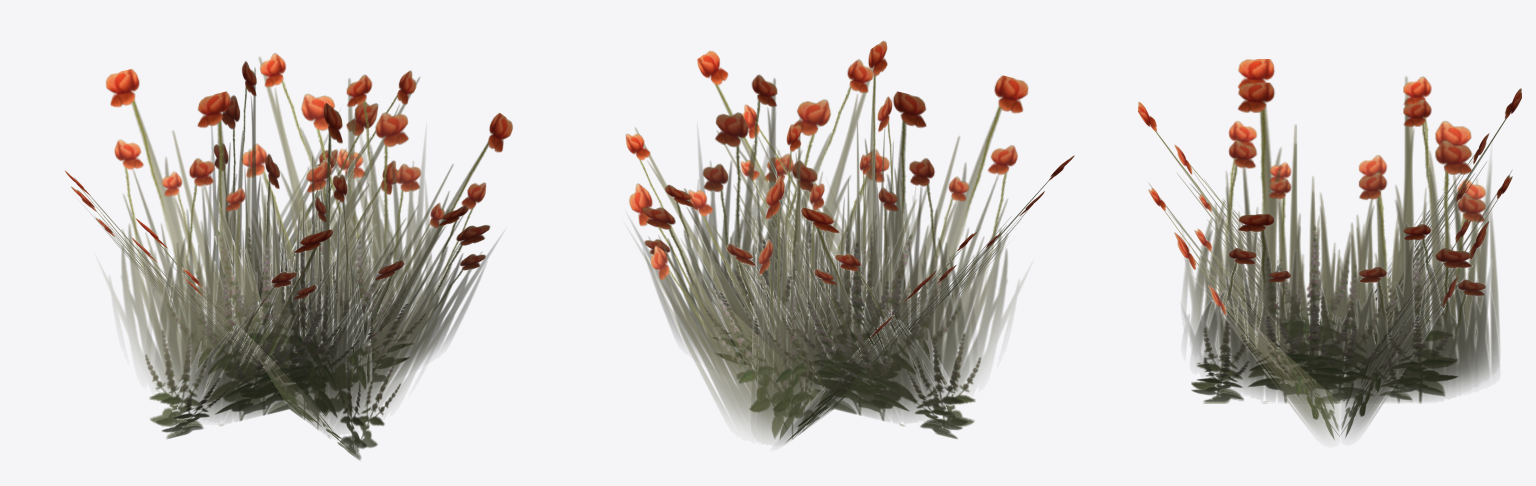
Rendered from flowers.gltf.
The picture shows the model from 3 angles, left to right: view 1: azimuth 30°, elevation 25°; view 2: azimuth 150°, elevation 25°; view 3: azimuth 270°, elevation 25°; orthographic projection. The views are drawn at different scales.
Visible parts, largest first — view 1: p40_6_Geometry_0; view 2: p40_6_Geometry_0; view 3: p40_6_Geometry_0.
Boxes of the visible parts, <box> form: p40_6_Geometry_0: <box>65,53,512,460</box>; p40_6_Geometry_0: <box>625,40,1074,445</box>; p40_6_Geometry_0: <box>1138,59,1521,440</box>.
Size of the model in its own units: 1.19 by 1.05 by 1.13.
Materials: 1 (1 with a texture image).
